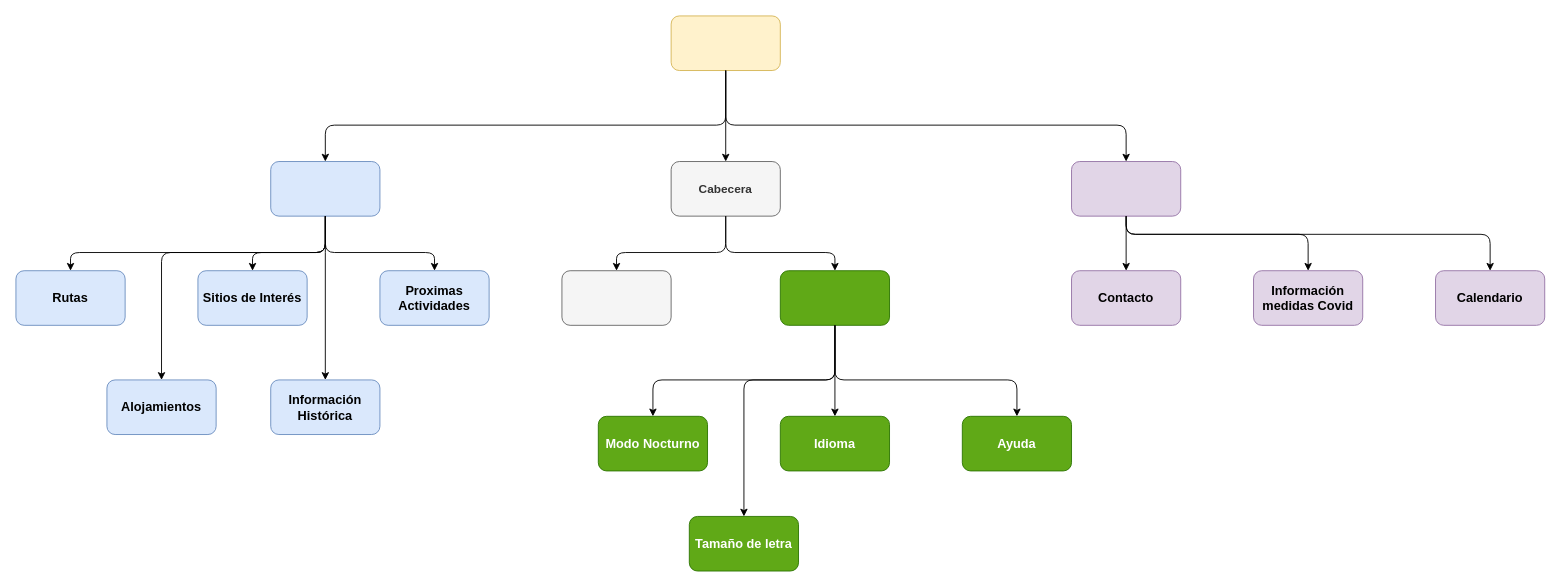
Image size: 1561x587. Some labels were removed from this diagram. Each missing label, with the box of its shape:
Buscador: (561, 270, 671, 325)
Cuerpo: (270, 161, 380, 216)
Desplegable: (779, 270, 890, 325)
Pie: (1071, 161, 1181, 216)
Página Principal: (670, 15, 780, 71)
